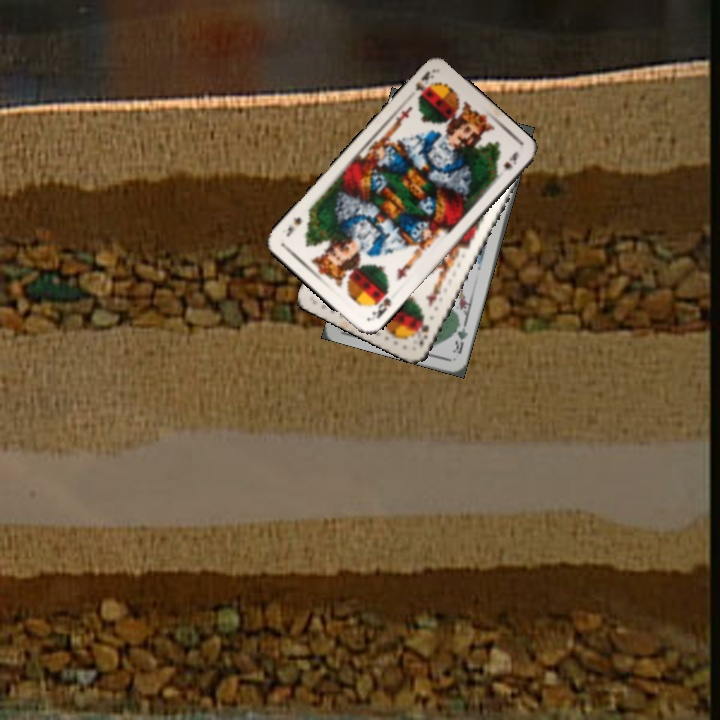GK: (449, 318, 470, 357)
SK: (411, 67, 437, 101), (368, 293, 394, 322), (415, 321, 432, 349)
